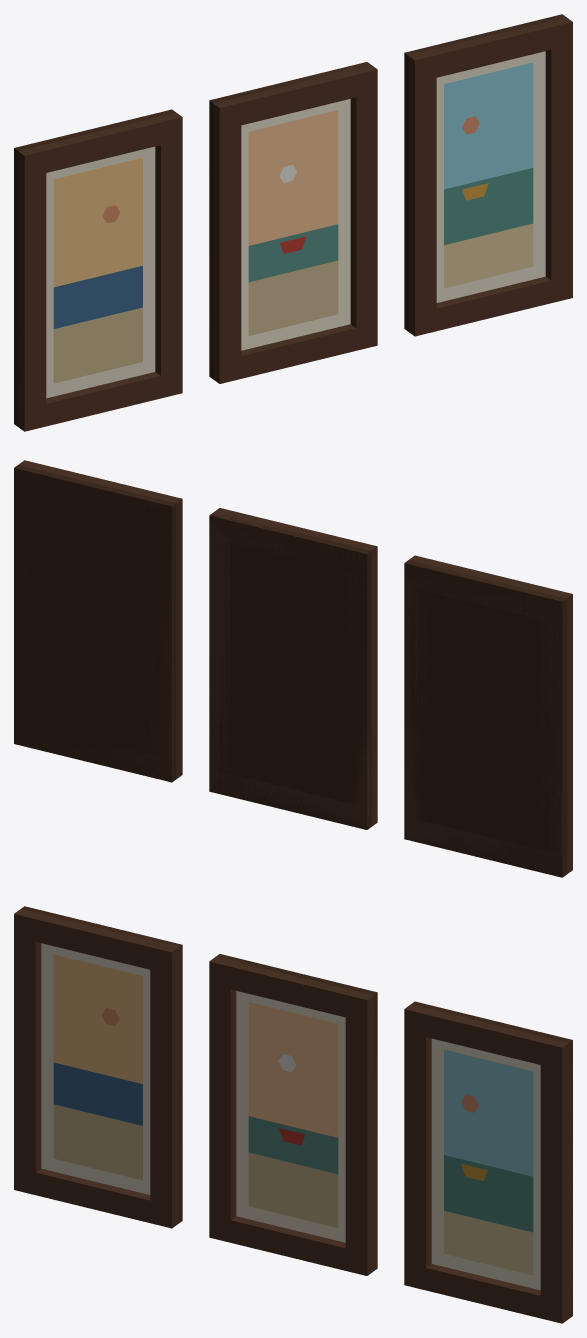
Rendered from picture-frame-05.glb.
3 renders of one model, top to bottom at view 1: azimuth 30°, elevation 25°; view 2: azimuth 150°, elevation 25°; view 3: azimuth 330°, elevation 25°, orthographic.
Parts seen in each view (by area): view 1: picture_frame_05; view 2: picture_frame_05; view 3: picture_frame_05.
Boxes of the visible parts, x1,y1,x2,y2 form: picture_frame_05: (14,14,572,431); picture_frame_05: (14,460,572,877); picture_frame_05: (14,906,572,1323).
Bounding box in the file's own units: 0.8879 × 0.4271 × 0.0296.
